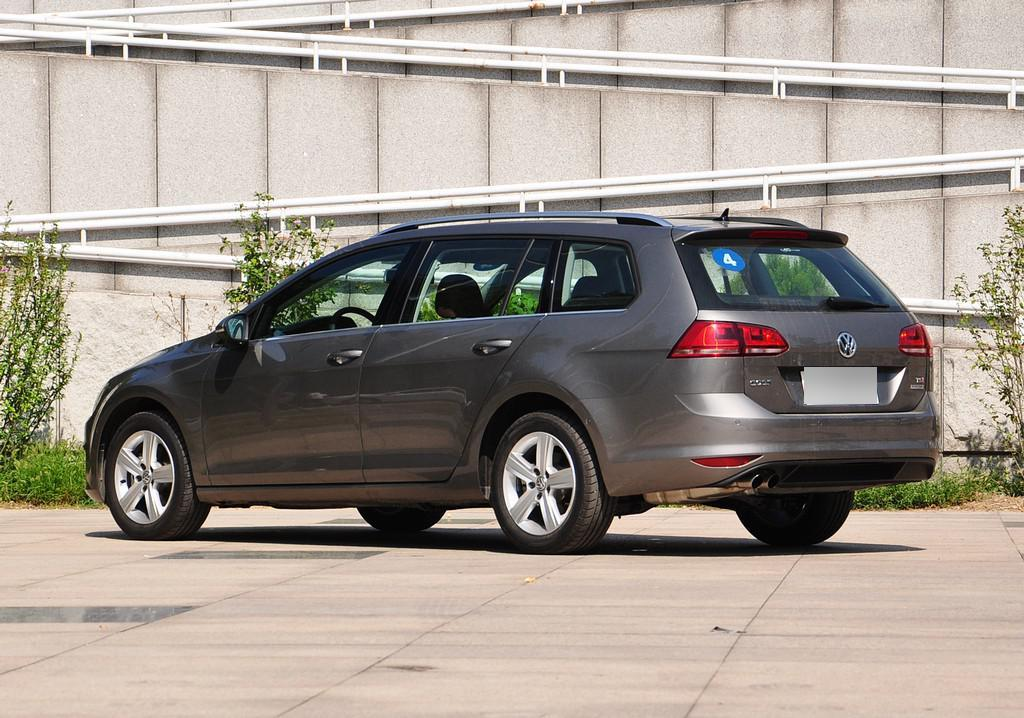Wagon: (84, 210, 942, 554)
